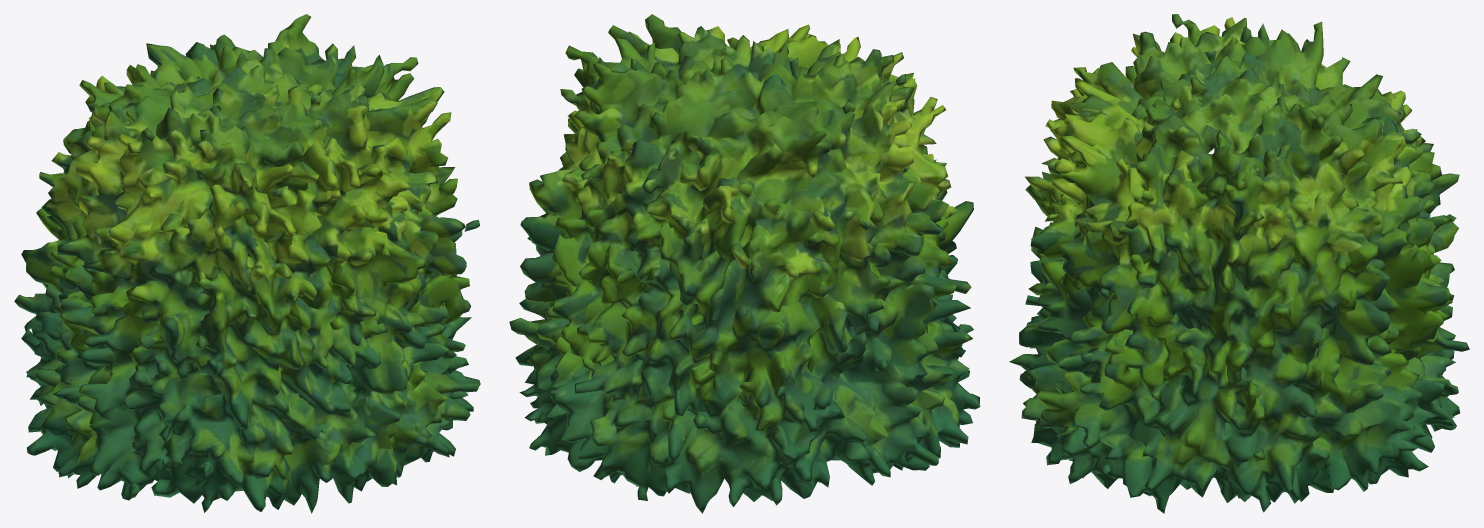
The model's file is buisson.glb.
The picture shows the model from 3 angles, left to right: view 1: azimuth 30°, elevation 25°; view 2: azimuth 150°, elevation 25°; view 3: azimuth 270°, elevation 25°; orthographic projection.
Parts seen in each view (by area): view 1: tripo_node_374c25ad-0182-4318-85d7-9ea4f8760bed; view 2: tripo_node_374c25ad-0182-4318-85d7-9ea4f8760bed; view 3: tripo_node_374c25ad-0182-4318-85d7-9ea4f8760bed.
Boxes of the visible parts, x1,y1,x2,y2 form: tripo_node_374c25ad-0182-4318-85d7-9ea4f8760bed: (14, 14, 480, 513); tripo_node_374c25ad-0182-4318-85d7-9ea4f8760bed: (509, 14, 980, 513); tripo_node_374c25ad-0182-4318-85d7-9ea4f8760bed: (1009, 14, 1469, 513).
Bounding box in the file's own units: 0.9954 × 0.8895 × 0.9826.
1 material, 1 textured.
